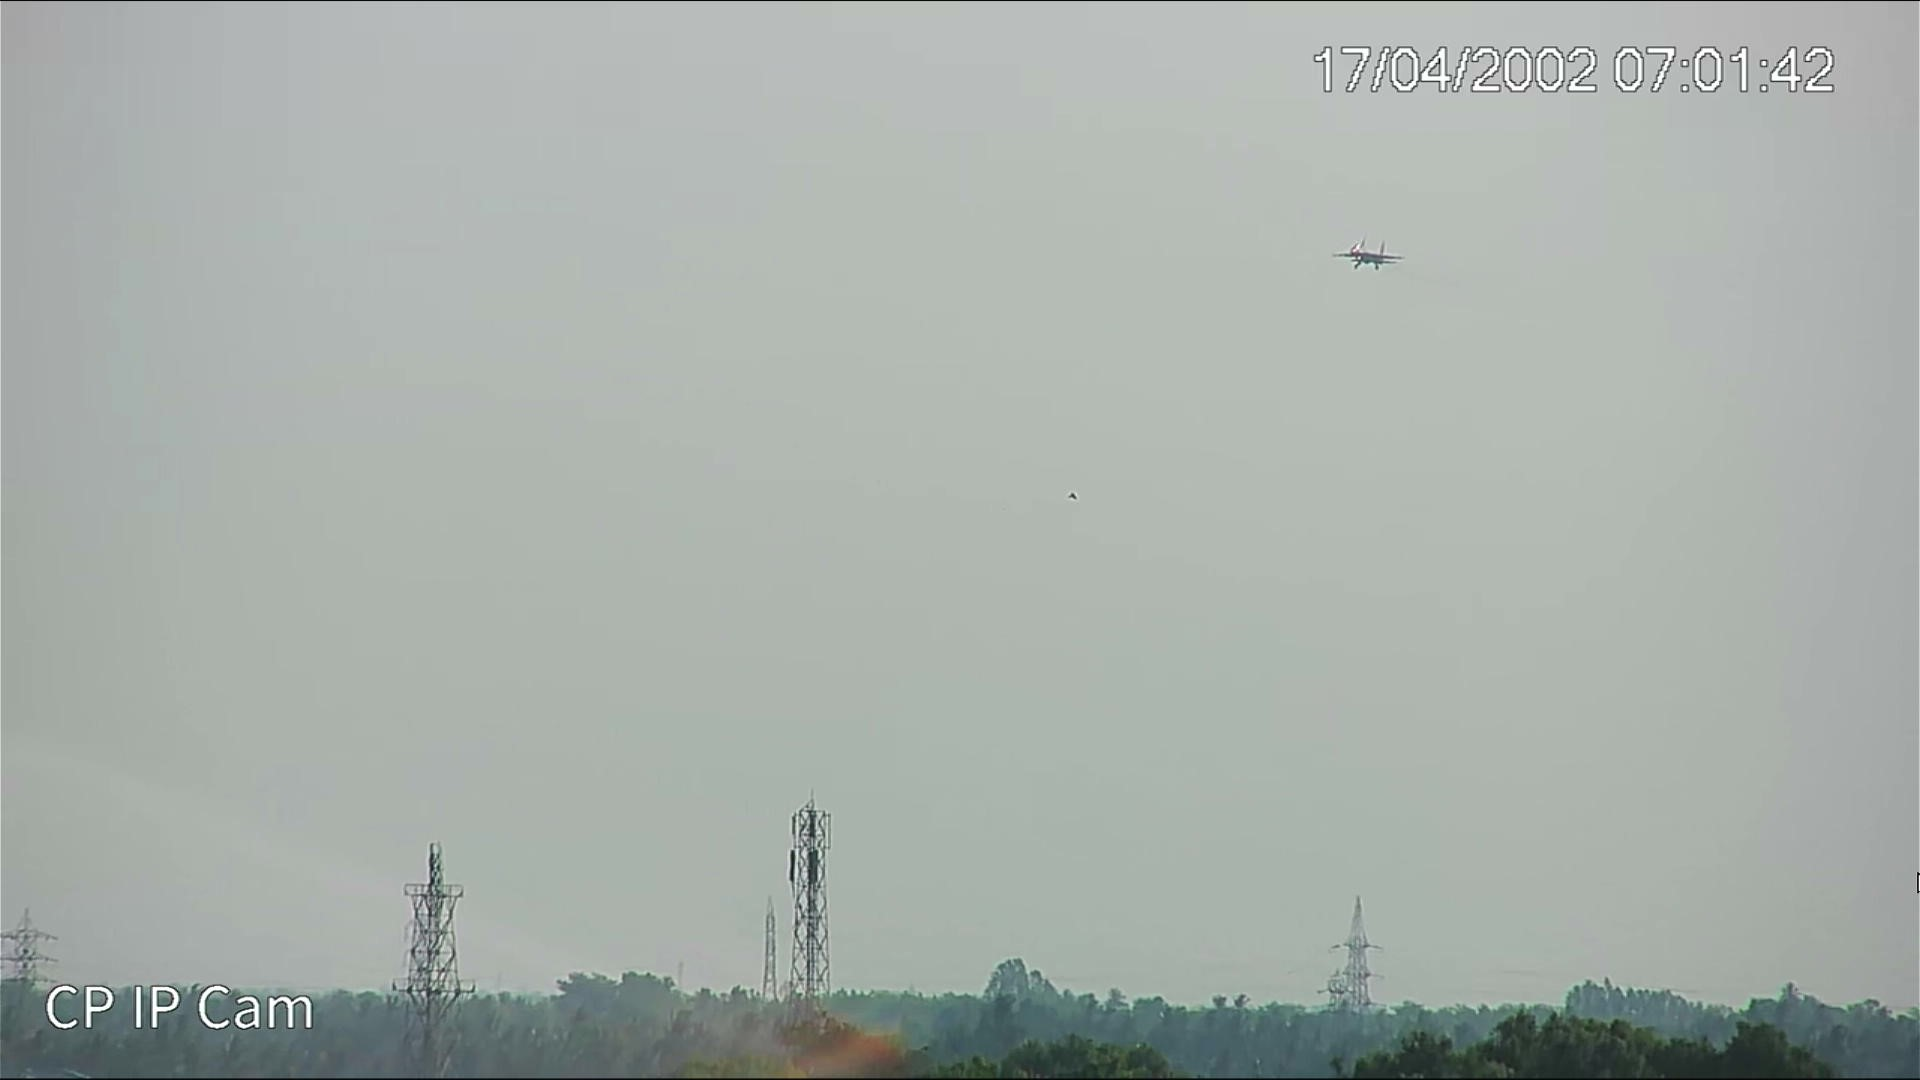SU_30: (1331, 233, 1403, 273)
